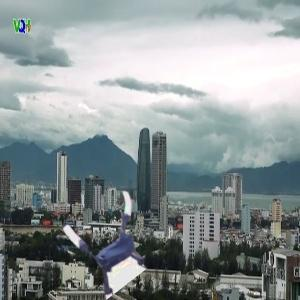drone: (69, 194, 159, 284)
